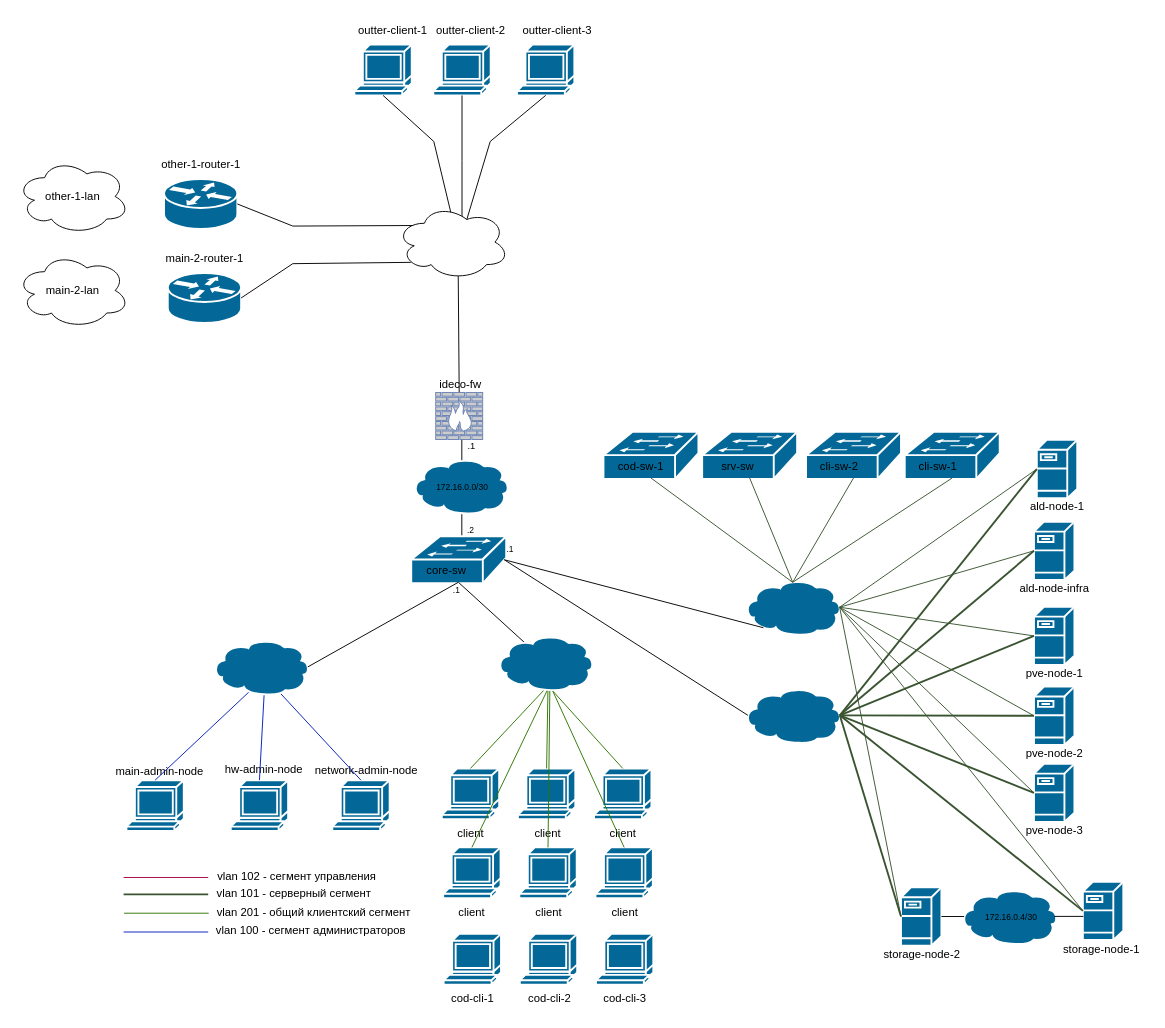
The diagram is 1165 pixels wide and 1028 high, and some of its shapes have lost their labels. Each missing label, with the box of its shape:
10.0.0.0/23 VLAN 201: (495, 634, 595, 691)
10.0.2.0/24 VLAN 101: (743, 686, 842, 744)
192.168.100.0/24 VLAN 100: (211, 638, 310, 695)
192.168.101.0/24 VLAN 102: (742, 578, 842, 635)
OpenVPN: (395, 204, 509, 280)
